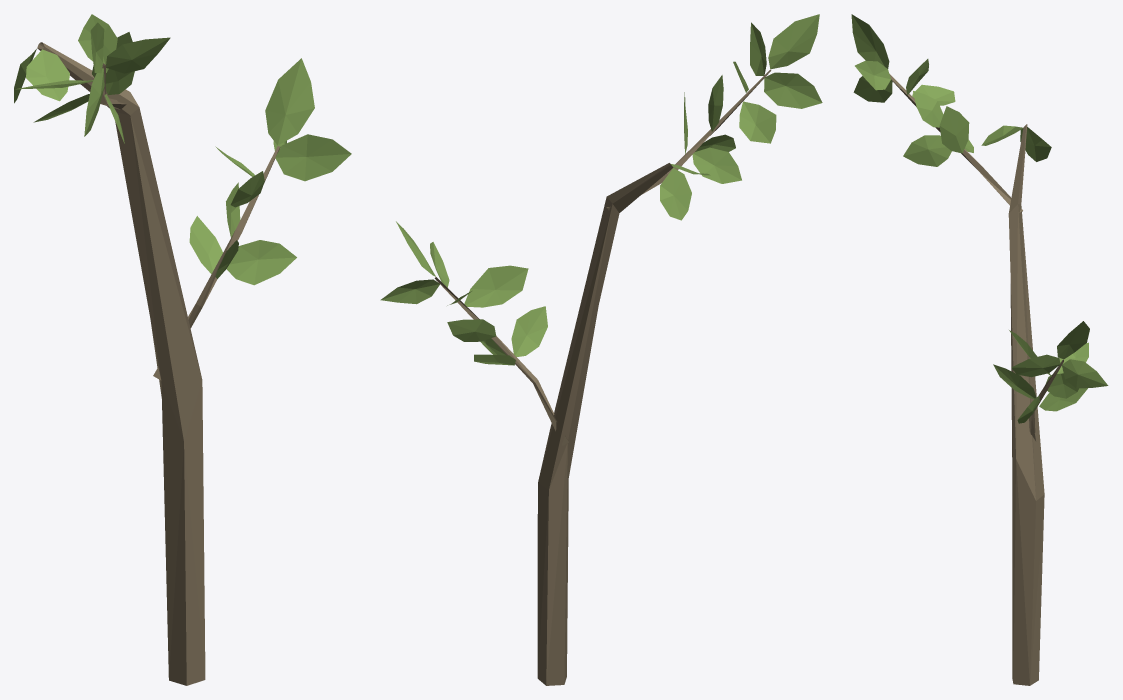
File: Cherry_1_4.fbx
The picture shows the model from 3 angles, left to right: view 1: azimuth 30°, elevation 25°; view 2: azimuth 150°, elevation 25°; view 3: azimuth 270°, elevation 25°; orthographic projection. The views are drawn at different scales.
Visible parts, largest first — view 1: Cherry_1_4; view 2: Cherry_1_4; view 3: Cherry_1_4.
Boxes of the visible parts, left/top/right/bottom form: Cherry_1_4: left=14, top=14, right=351, bottom=685; Cherry_1_4: left=380, top=14, right=822, bottom=685; Cherry_1_4: left=851, top=14, right=1108, bottom=685.
Size of the model in its own units: 68.25 by 136 by 53.76.
